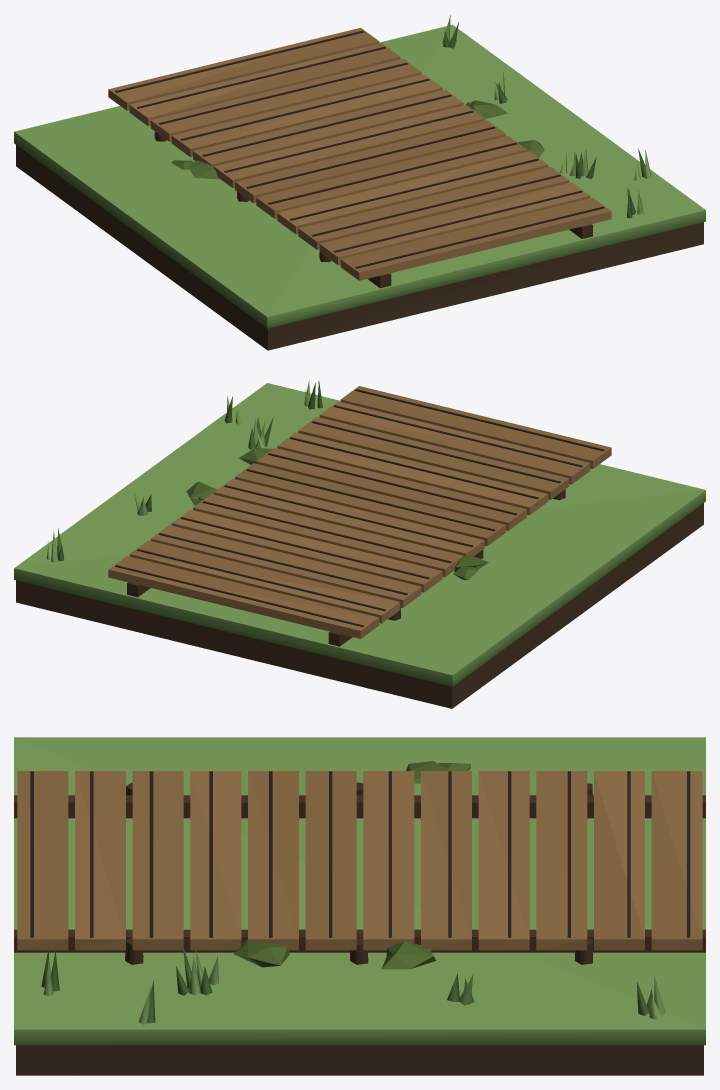
Rendered from boardwalk-plank.glb.
3 renders of one model, top to bottom at view 1: azimuth 30°, elevation 25°; view 2: azimuth 150°, elevation 25°; view 3: azimuth 270°, elevation 25°, orthographic. The views are drawn at different scales.
Visible parts, largest first — view 1: boardwalk_plank; view 2: boardwalk_plank; view 3: boardwalk_plank.
Boxes of the visible parts, <box> form: boardwalk_plank: <box>14,15,705,350</box>; boardwalk_plank: <box>14,380,705,708</box>; boardwalk_plank: <box>14,737,705,1075</box>.
Bounding box in the file's own units: 4 × 0.5555 × 4.
